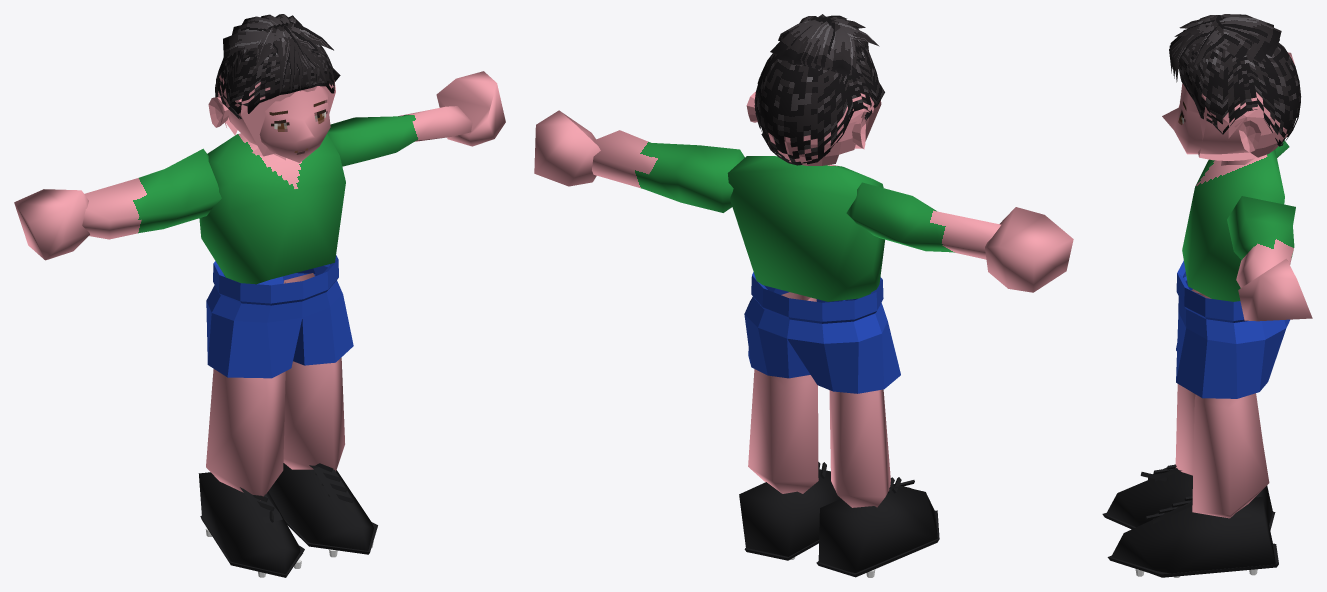
Rendered from 02-jogador-degrade_preto.glb.
The picture shows the model from 3 angles, left to right: view 1: azimuth 30°, elevation 25°; view 2: azimuth 150°, elevation 25°; view 3: azimuth 270°, elevation 25°; orthographic projection. The views are drawn at different scales.
Parts seen in each view (by area): view 1: Camisa_Tronco, Bermuda, Perna.R, Cabelo, Braco.R, Perna.L, Chuteira.R, Chuteira.L, Braco.L, Mao.R, Cabeca, Mao.L (+4 smaller); view 2: Camisa_Tronco, Cabelo, Bermuda, Perna.L, Braco.L, Chuteira.R, Perna.R, Braco.R, Mao.R, Chuteira.L, Mao.L, Cranio (+1 smaller); view 3: Cabelo, Bermuda, Chuteira.L, Camisa_Tronco, Perna.L, Braco.L, Mao.L, Chuteira.R, Cabeca, Cranio, Perna.R, Chuteira_Sola.L (+3 smaller).
Boxes of the visible parts, left/top/right/bottom form: Camisa_Tronco: left=199, top=133, right=345, bottom=284; Bermuda: left=206, top=255, right=353, bottom=378; Perna.R: left=206, top=369, right=285, bottom=500; Cabelo: left=215, top=14, right=340, bottom=119; Braco.R: left=82, top=148, right=221, bottom=239; Perna.L: left=283, top=273, right=344, bottom=471; Chuteira.R: left=198, top=472, right=302, bottom=573; Chuteira.L: left=268, top=463, right=373, bottom=550; Braco.L: left=327, top=106, right=472, bottom=166; Mao.R: left=14, top=189, right=89, bottom=260; Cabeca: left=228, top=86, right=330, bottom=162; Mao.L: left=436, top=71, right=505, bottom=146; Camisa_Tronco: left=727, top=156, right=884, bottom=301; Cabelo: left=754, top=14, right=884, bottom=165; Bermuda: left=744, top=272, right=900, bottom=393; Perna.L: left=748, top=292, right=818, bottom=493; Braco.L: left=592, top=130, right=744, bottom=212; Chuteira.R: left=818, top=484, right=937, bottom=572; Perna.R: left=829, top=389, right=890, bottom=507; Braco.R: left=846, top=182, right=1001, bottom=259; Mao.R: left=985, top=207, right=1073, bottom=292; Chuteira.L: left=739, top=469, right=840, bottom=556; Mao.L: left=534, top=110, right=600, bottom=186; Cranio: left=768, top=93, right=881, bottom=165; Cabelo: left=1169, top=14, right=1301, bottom=146; Bermuda: left=1176, top=260, right=1289, bottom=398; Chuteira.L: left=1111, top=497, right=1276, bottom=577; Camisa_Tronco: left=1182, top=149, right=1284, bottom=301; Perna.L: left=1192, top=393, right=1269, bottom=518; Braco.L: left=1227, top=196, right=1295, bottom=287; Mao.L: left=1238, top=258, right=1312, bottom=321; Chuteira.R: left=1106, top=468, right=1272, bottom=527; Cabeca: left=1162, top=83, right=1248, bottom=154; Cranio: left=1198, top=92, right=1287, bottom=160; Perna.R: left=1175, top=289, right=1261, bottom=475; Chuteira_Sola.L: left=1107, top=543, right=1278, bottom=577.
Size of the model in its own units: 0.4523 by 0.4516 by 0.1617.
Materials: 3 (3 with a texture image).
